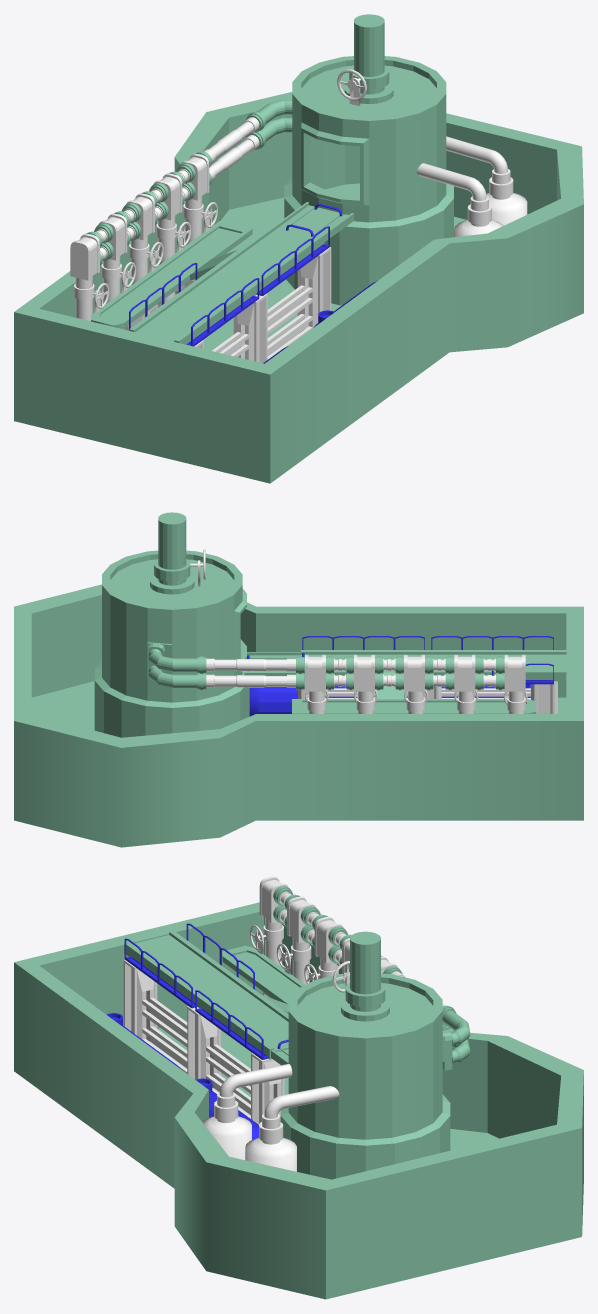
The model's file is WATERROOM(FIN).fbx.
3 renders of one model, top to bottom at view 1: azimuth 30°, elevation 25°; view 2: azimuth 150°, elevation 25°; view 3: azimuth 270°, elevation 25°, orthographic. The views are drawn at different scales.
Visible parts, largest first — view 1: Box313, Cylinder549, Box334, Object055, Object056, Object046, Object045; view 2: Box313, Cylinder549, Box334, Object050; view 3: Box313, Cylinder549, Box334, Object056, Object055, Object046, Object045.
Part boxes in pixels (<box>): Box313: <box>14,92,583,483</box>; Cylinder549: <box>86,14,453,305</box>; Box334: <box>70,77,360,363</box>; Object055: <box>446,136,527,225</box>; Object056: <box>417,163,503,237</box>; Object046: <box>256,226,329,295</box>; Object045: <box>186,278,259,346</box>; Box313: <box>14,584,583,847</box>; Cylinder549: <box>94,512,504,737</box>; Box334: <box>198,560,557,713</box>; Object050: <box>249,681,357,716</box>; Box313: <box>14,902,583,1299</box>; Cylinder549: <box>273,886,470,1179</box>; Box334: <box>123,876,444,1124</box>; Object056: <box>202,1064,292,1159</box>; Object055: <box>245,1086,339,1171</box>; Object046: <box>195,990,268,1059</box>; Object045: <box>124,938,197,1008</box>.
Bounding box in the file's own units: 1581 × 677 × 1309.
